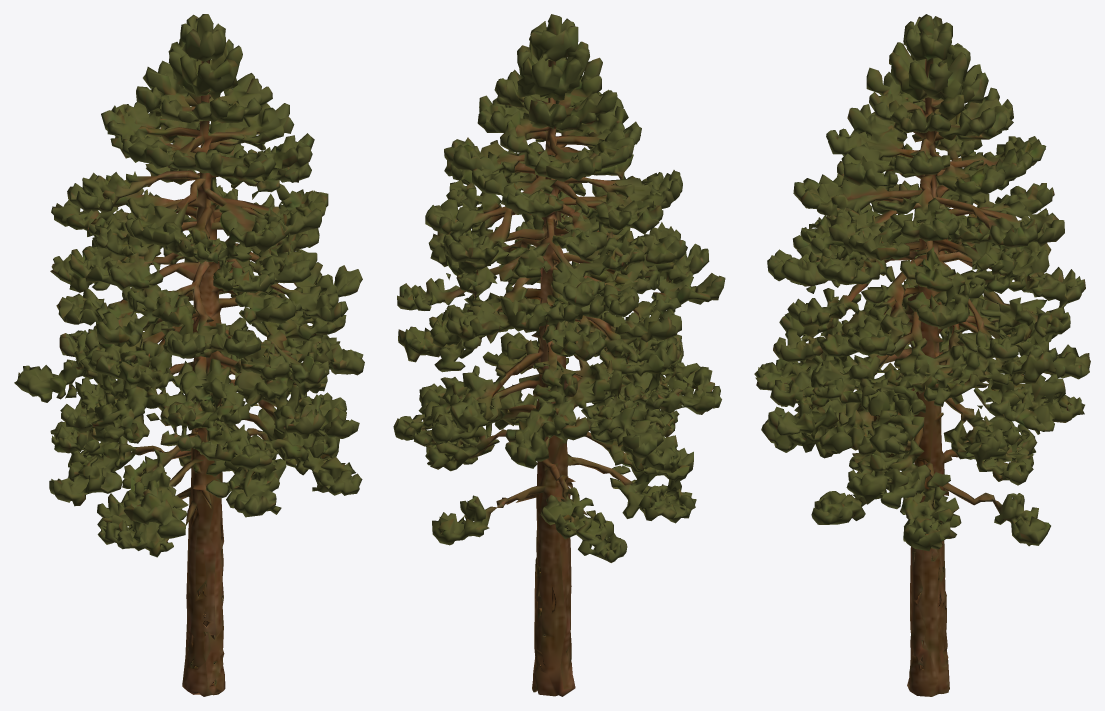
File: tree_16_ponderosa_pine.glb
3 renders of one model, left to right at view 1: azimuth 30°, elevation 25°; view 2: azimuth 150°, elevation 25°; view 3: azimuth 270°, elevation 25°, orthographic.
Parts seen in each view (by area): view 1: geometry_0; view 2: geometry_0; view 3: geometry_0.
Boxes of the visible parts, bbox=[...] form: geometry_0: bbox=[14, 14, 364, 696]; geometry_0: bbox=[393, 14, 725, 696]; geometry_0: bbox=[754, 14, 1090, 696].
Bounding box in the file's own units: 0.4547 × 1 × 0.4545.
Materials: 1 (1 with a texture image).
